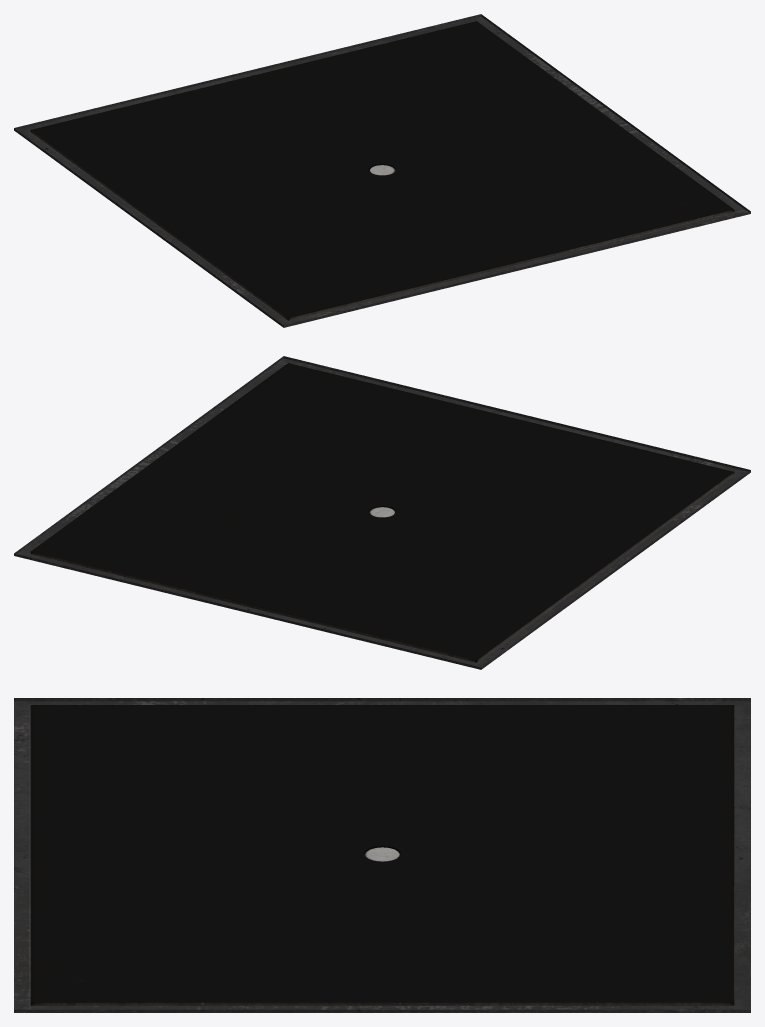
Rendered from game_hall_ceiling_spotlights.fbx.
The picture shows the model from 3 angles, top to bottom: view 1: azimuth 30°, elevation 25°; view 2: azimuth 150°, elevation 25°; view 3: azimuth 270°, elevation 25°; orthographic projection. The views are drawn at different scales.
Visible parts, largest first — view 1: Mesh1 skpD21C1 Model; view 2: Mesh1 skpD21C1 Model; view 3: Mesh1 skpD21C1 Model.
Boxes of the visible parts, bbox=[...] form: Mesh1 skpD21C1 Model: bbox=[14, 14, 750, 327]; Mesh1 skpD21C1 Model: bbox=[14, 356, 750, 669]; Mesh1 skpD21C1 Model: bbox=[14, 698, 750, 1012].
Size of the model in its own units: 200 by 1 by 200.
Materials: 1 (1 with a texture image).
